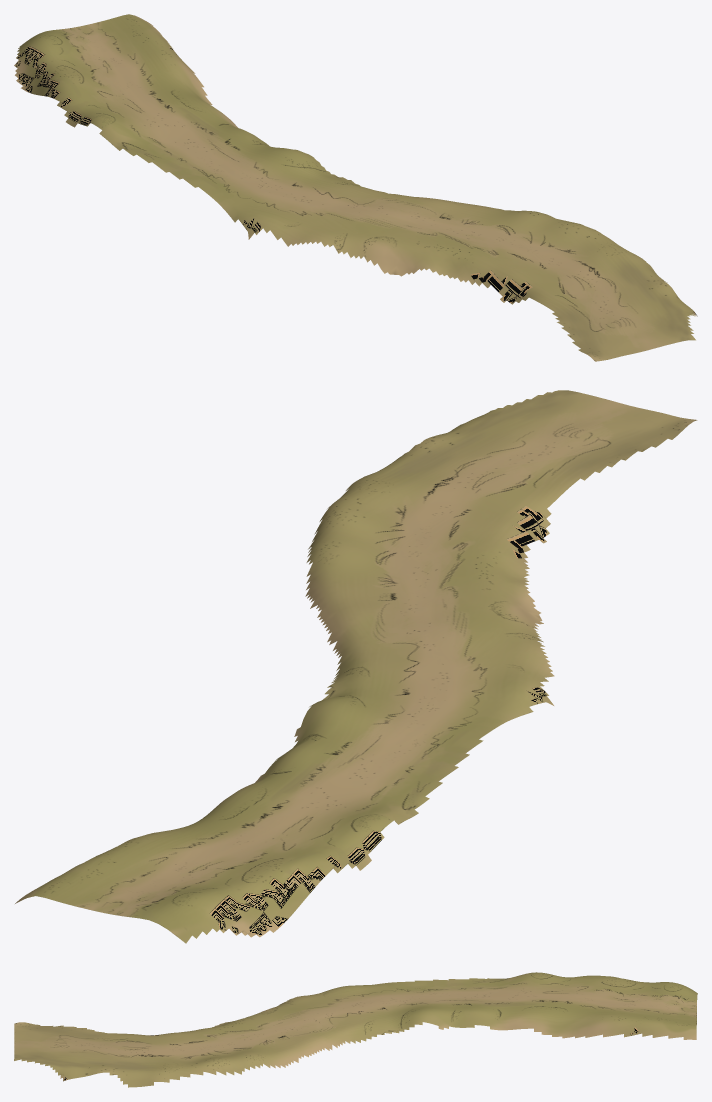
File: hugeLevel1collion.glb
The picture shows the model from 3 angles, top to bottom: view 1: azimuth 30°, elevation 25°; view 2: azimuth 150°, elevation 25°; view 3: azimuth 270°, elevation 25°; orthographic projection. The views are drawn at different scales.
Parts seen in each view (by area): view 1: Plane.001; view 2: Plane.001; view 3: Plane.001.
Part boxes in pixels (left/top/right/bottom): Plane.001: left=14, top=14, right=697, bottom=361; Plane.001: left=15, top=390, right=697, bottom=943; Plane.001: left=14, top=972, right=697, bottom=1087.
Bounding box in the file's own units: 4.15 × 0.4221 × 11.61.
Materials: 1 (1 with a texture image).
